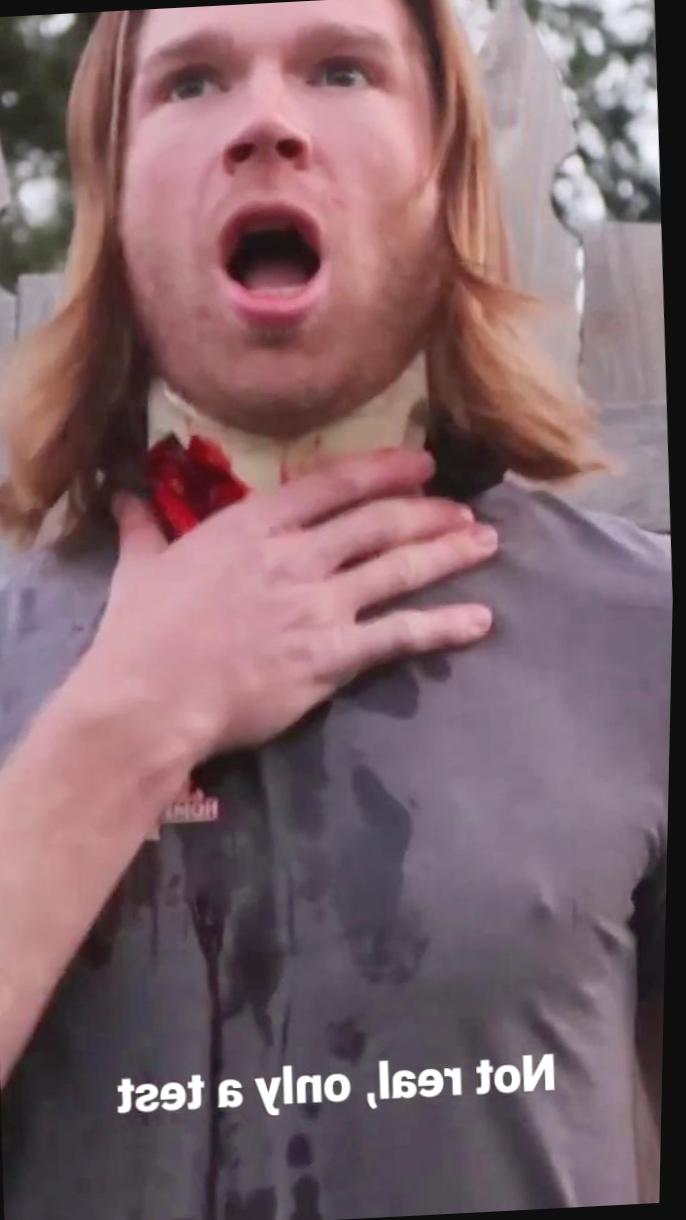Fire: (147, 434, 250, 541), (247, 425, 342, 492)
